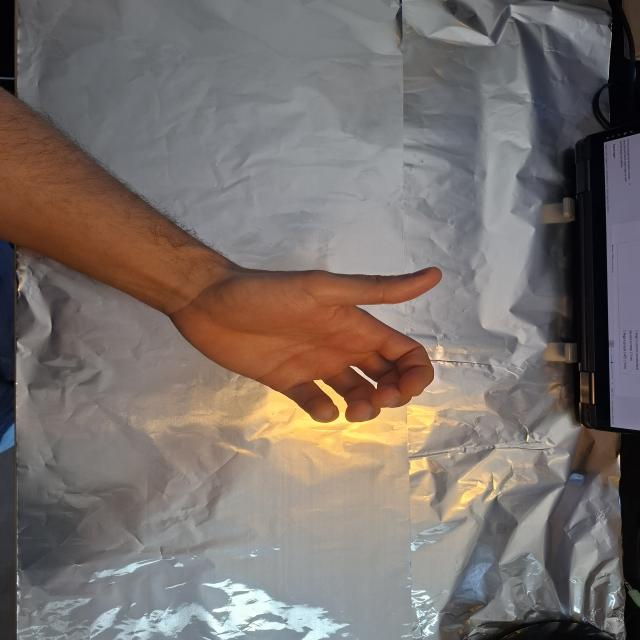glove_off: (162, 261, 446, 425)
